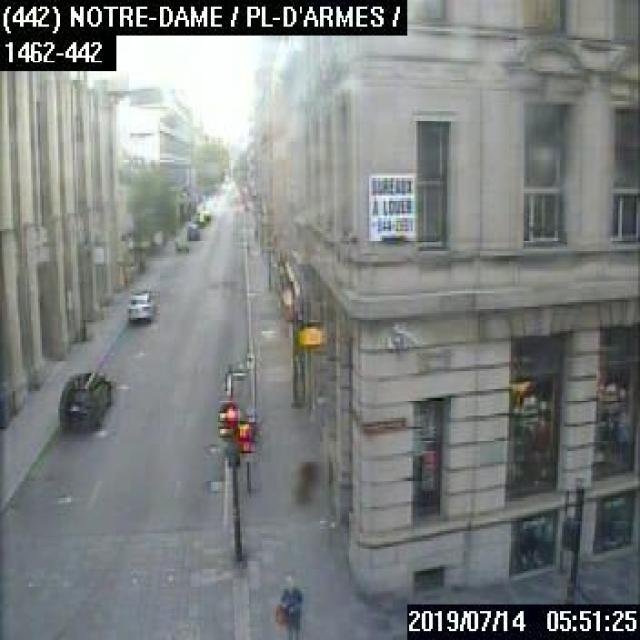pedestrian: (273, 578, 300, 638)
vehicle: (58, 367, 113, 429), (125, 287, 152, 322), (172, 235, 189, 253), (185, 222, 198, 238)
